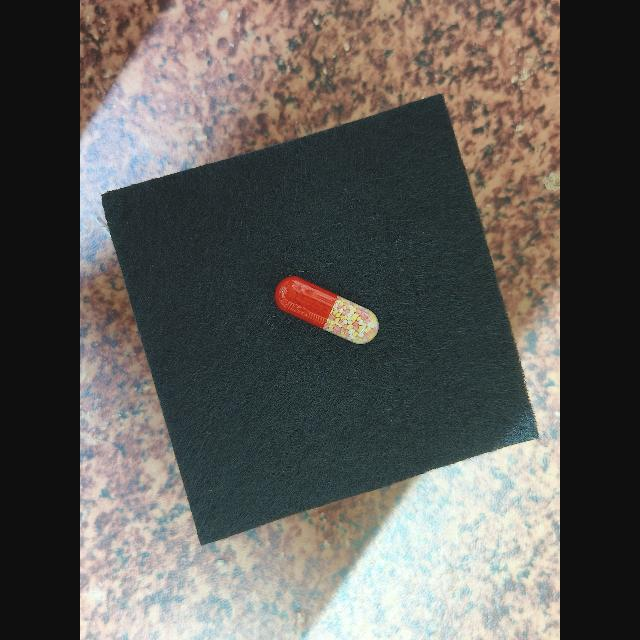Intact Capsule: (275, 276, 379, 344)
